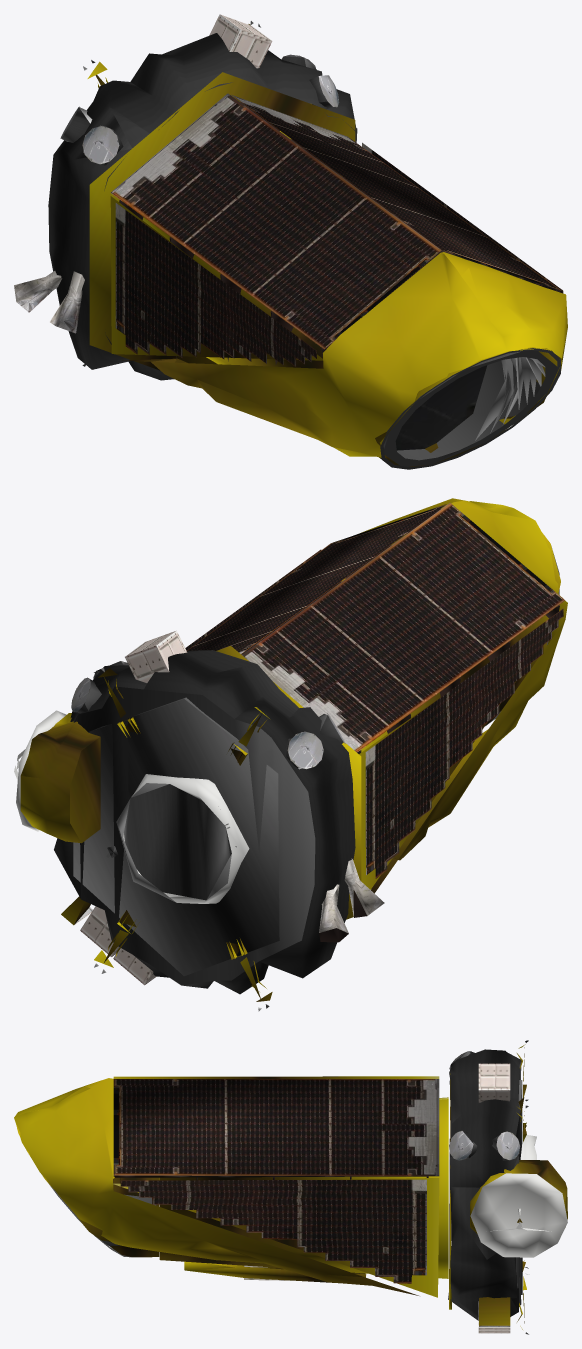
File: kepler_lod2.glb
3 views of the same model, one above another, from view 1: azimuth 30°, elevation 25°; view 2: azimuth 150°, elevation 25°; view 3: azimuth 270°, elevation 25° (orthographic). The views are drawn at different scales.
Visible parts, largest first — view 1: kepler_lod2; view 2: kepler_lod2; view 3: kepler_lod2.
Part boxes in pixels (x1,y1,x2,y2): kepler_lod2: (14,14,567,469); kepler_lod2: (14,498,567,1011); kepler_lod2: (14,1040,567,1334).
Bounding box in the file's own units: 2.72 × 2.7 × 5.11.
6 materials, 4 textured.
